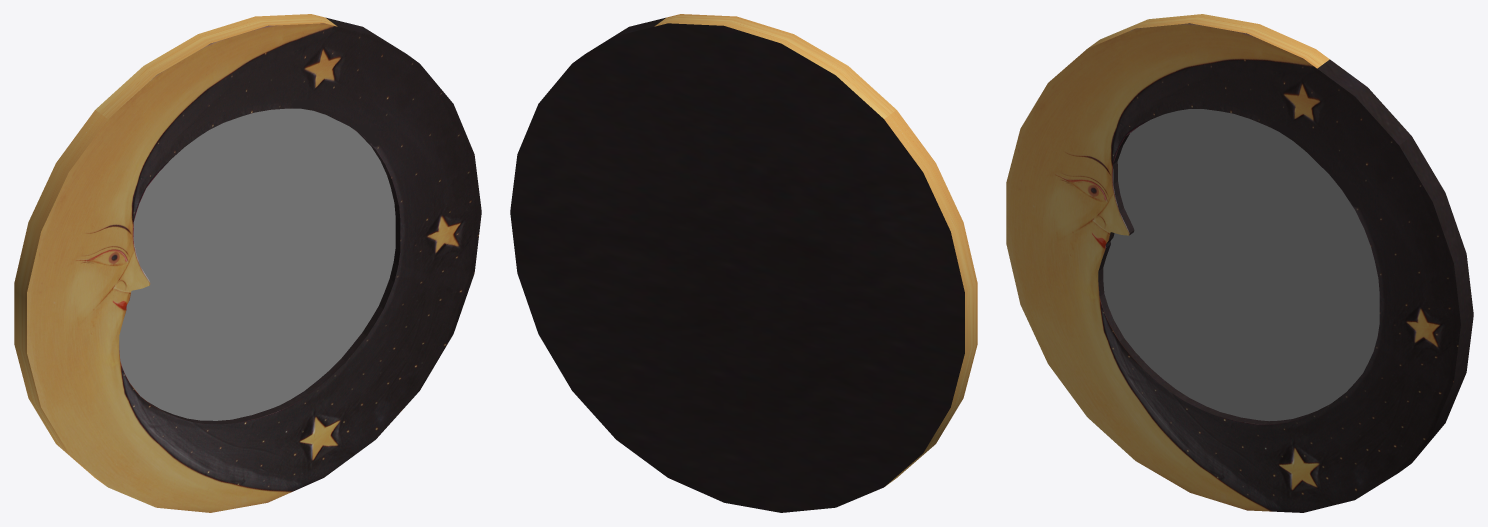
File: Mirror 2.FBX
The picture shows the model from 3 angles, left to right: view 1: azimuth 30°, elevation 25°; view 2: azimuth 150°, elevation 25°; view 3: azimuth 330°, elevation 25°; orthographic projection.
Visible parts, largest first — view 1: mirror 3; view 2: mirror 3; view 3: mirror 3.
Boxes of the visible parts, bbox=[...] form: mirror 3: bbox=[14, 14, 481, 512]; mirror 3: bbox=[510, 14, 977, 512]; mirror 3: bbox=[1006, 14, 1473, 512].
Size of the model in its own units: 82.34 by 82.5 by 4.
Materials: 2 (1 with a texture image).
